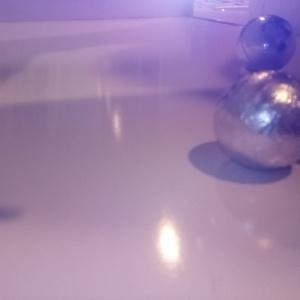alive_ball: (214, 70, 300, 171), (235, 14, 297, 71)
